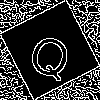Q: (25, 25, 77, 84)
